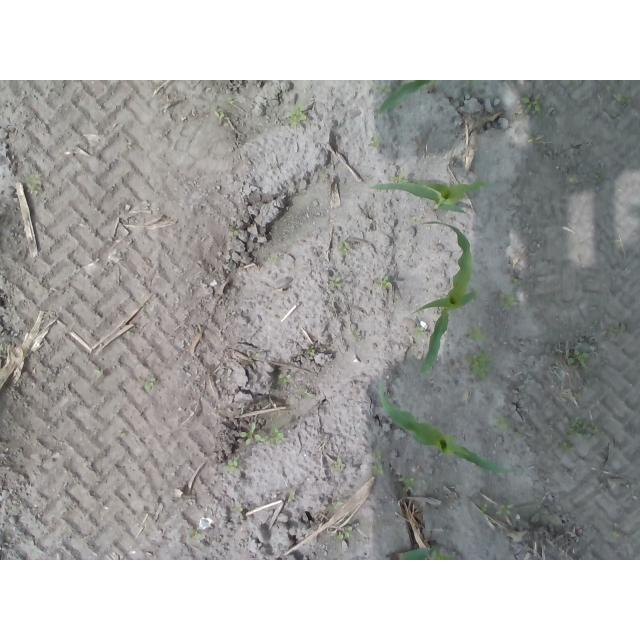Maize: (377, 382, 519, 479), (419, 220, 480, 377), (366, 176, 495, 215), (375, 81, 441, 116), (386, 536, 455, 560)
Weeds: (559, 416, 598, 456), (467, 326, 493, 383), (239, 422, 285, 446), (566, 347, 592, 370), (482, 502, 515, 519), (286, 101, 308, 126), (495, 290, 518, 313), (522, 93, 543, 113), (608, 323, 628, 339), (372, 452, 385, 476), (497, 417, 514, 434), (221, 459, 239, 473), (379, 277, 393, 295), (144, 375, 159, 391), (276, 372, 293, 386), (27, 174, 41, 191), (336, 526, 353, 539), (328, 275, 342, 290), (402, 474, 415, 490), (375, 83, 394, 93), (327, 501, 344, 511), (217, 108, 227, 125), (337, 241, 349, 255), (370, 134, 379, 147), (306, 345, 316, 356), (511, 275, 521, 285), (415, 327, 425, 337), (397, 176, 408, 185)
